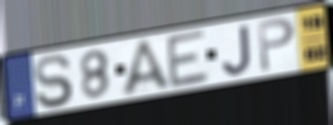8: (78, 48, 113, 101)
A: (120, 36, 174, 99)
E: (164, 27, 212, 91)
J: (221, 23, 253, 77)
P: (256, 15, 298, 75)
S: (33, 53, 75, 110)
